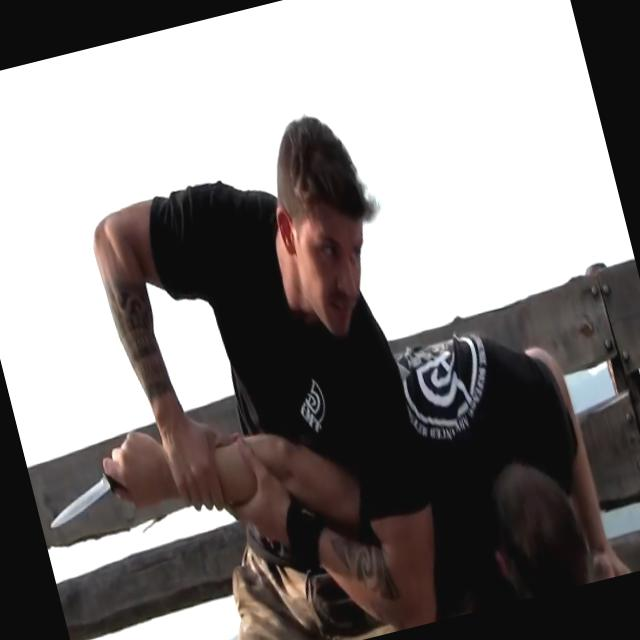knife: (25, 424, 158, 540)
